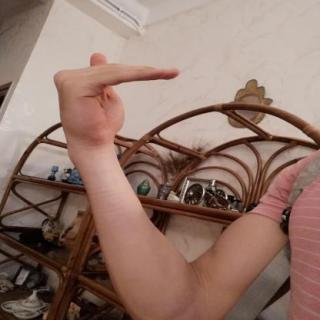KHAA: (40, 46, 194, 147)
